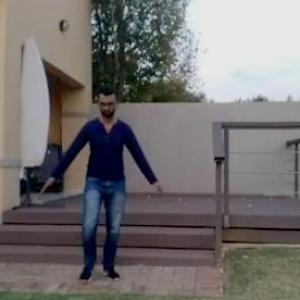land: (26, 71, 161, 299)
